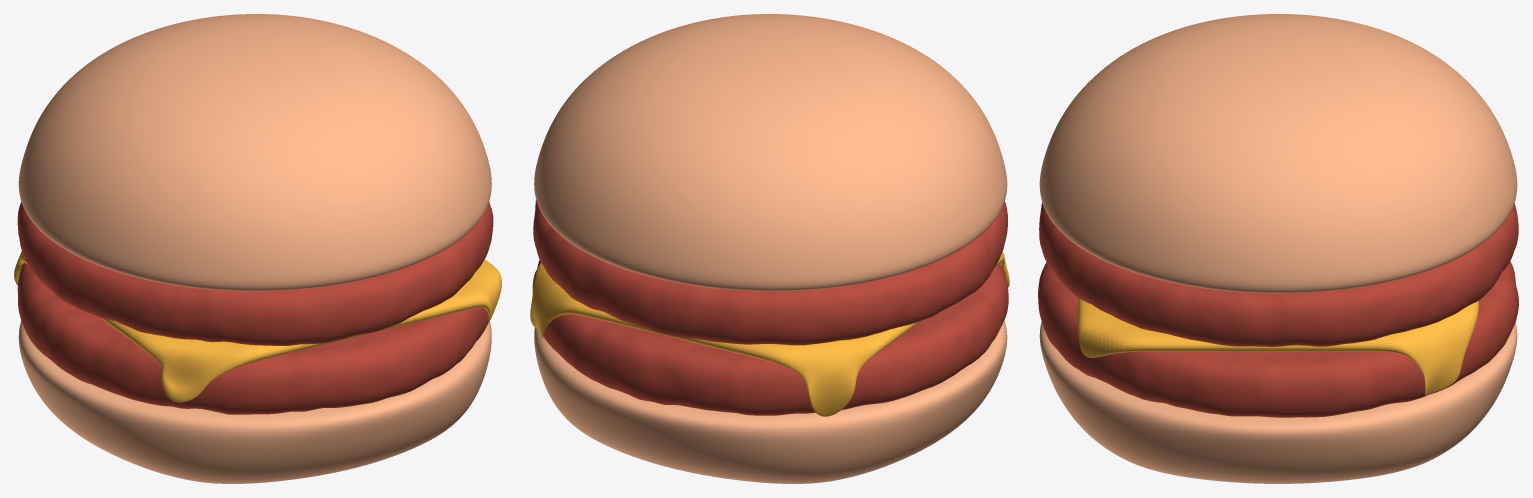
The model's file is burger.fbx.
The picture shows the model from 3 angles, left to right: view 1: azimuth 30°, elevation 25°; view 2: azimuth 150°, elevation 25°; view 3: azimuth 270°, elevation 25°; orthographic projection.
Visible parts, largest first — view 1: Roundcube, Roundcube.001, Circle, Circle.001, Plane; view 2: Roundcube, Roundcube.001, Circle, Circle.001, Plane; view 3: Roundcube, Roundcube.001, Circle.001, Circle, Plane.
Part boxes in pixels (x1,y1,x2,y2): Roundcube: [18, 14, 491, 291]; Roundcube.001: [18, 321, 491, 483]; Circle: [17, 263, 488, 414]; Circle.001: [17, 201, 493, 345]; Plane: [14, 251, 501, 402]; Roundcube: [534, 14, 1007, 291]; Roundcube.001: [534, 320, 1007, 483]; Circle: [532, 260, 1008, 415]; Circle.001: [533, 200, 1007, 345]; Plane: [530, 252, 1009, 416]; Roundcube: [1039, 14, 1517, 293]; Roundcube.001: [1039, 322, 1517, 483]; Circle.001: [1039, 202, 1518, 346]; Circle: [1038, 261, 1518, 417]; Plane: [1078, 298, 1478, 396].
Bounding box in the file's own units: 198 × 166 × 198.
